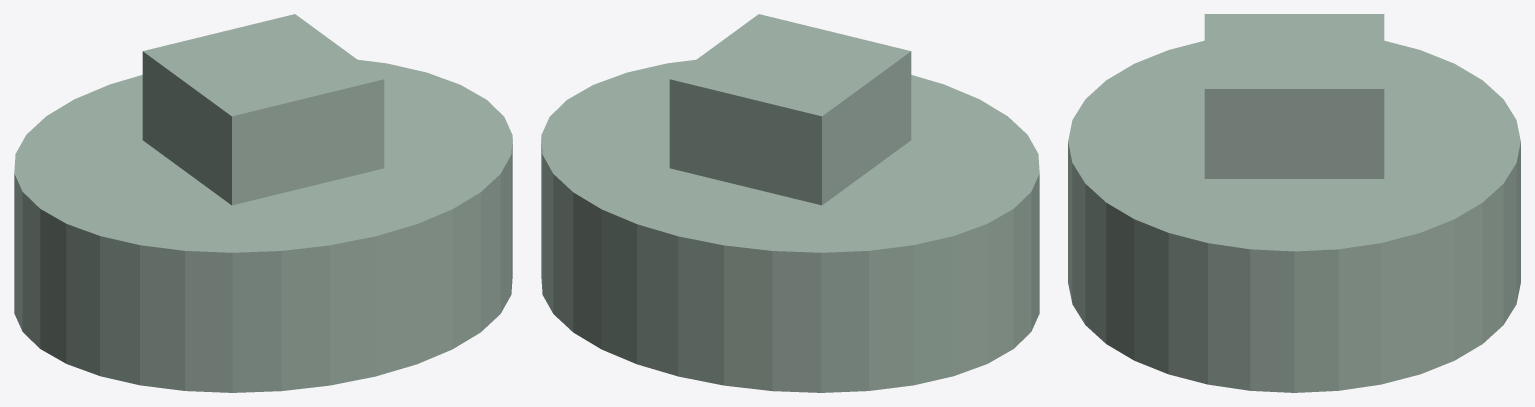
Rendered from enemy.obj.
The picture shows the model from 3 angles, left to right: view 1: azimuth 30°, elevation 25°; view 2: azimuth 150°, elevation 25°; view 3: azimuth 270°, elevation 25°; orthographic projection.
Visible parts, largest first — view 1: 立方体; view 2: 立方体; view 3: 立方体.
Boxes of the visible parts, x1,y1,x2,y2 form: 立方体: (14,14,512,392); 立方体: (541,14,1039,392); 立方体: (1068,14,1520,392).
Size of the model in its own units: 1.19 by 0.5844 by 1.04.
1 material, 1 textured.
